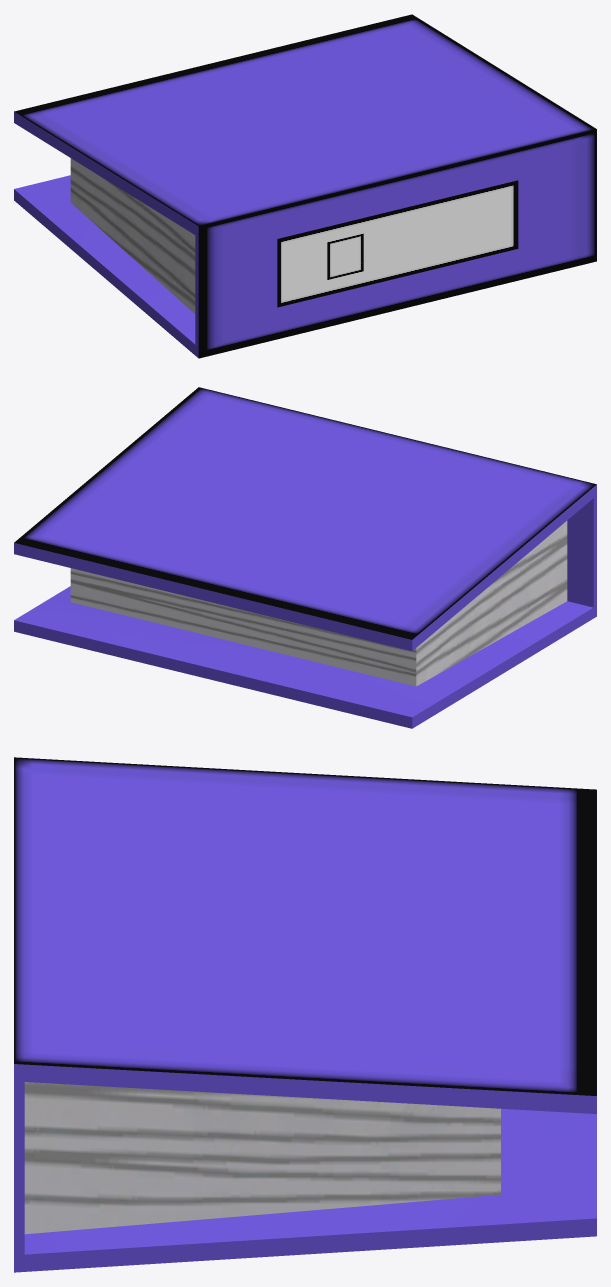
Rendered from Folder_Purple_Individual.fbx.
The picture shows the model from 3 angles, top to bottom: view 1: azimuth 30°, elevation 25°; view 2: azimuth 150°, elevation 25°; view 3: azimuth 270°, elevation 25°; orthographic projection. The views are drawn at different scales.
Parts seen in each view (by area): view 1: Folder1; view 2: Folder1; view 3: Folder1.
Boxes of the visible parts, bbox=[...] form: Folder1: bbox=[14, 14, 596, 358]; Folder1: bbox=[14, 387, 596, 728]; Folder1: bbox=[14, 757, 596, 1272].
Size of the model in its own units: 37.28 by 11.83 by 29.96.
